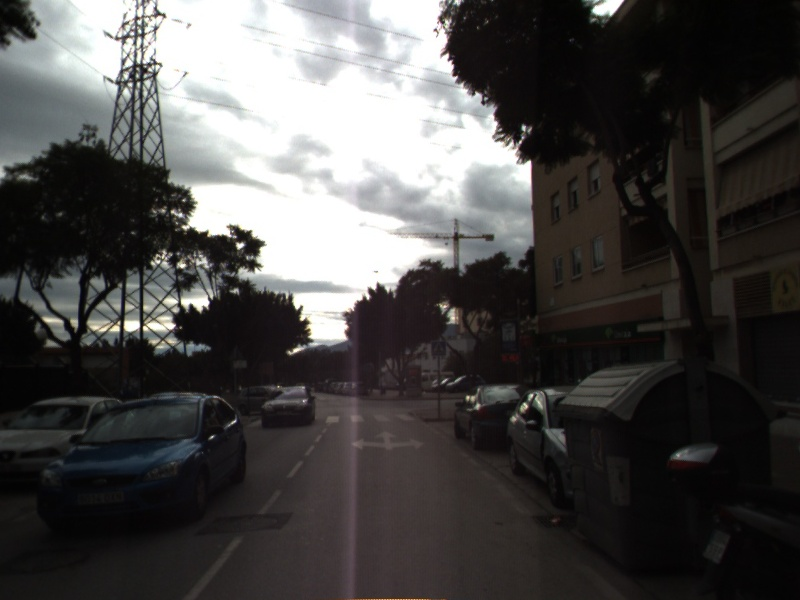STRAIGHT_LEFT_RIGHT: (349, 428, 427, 452)
